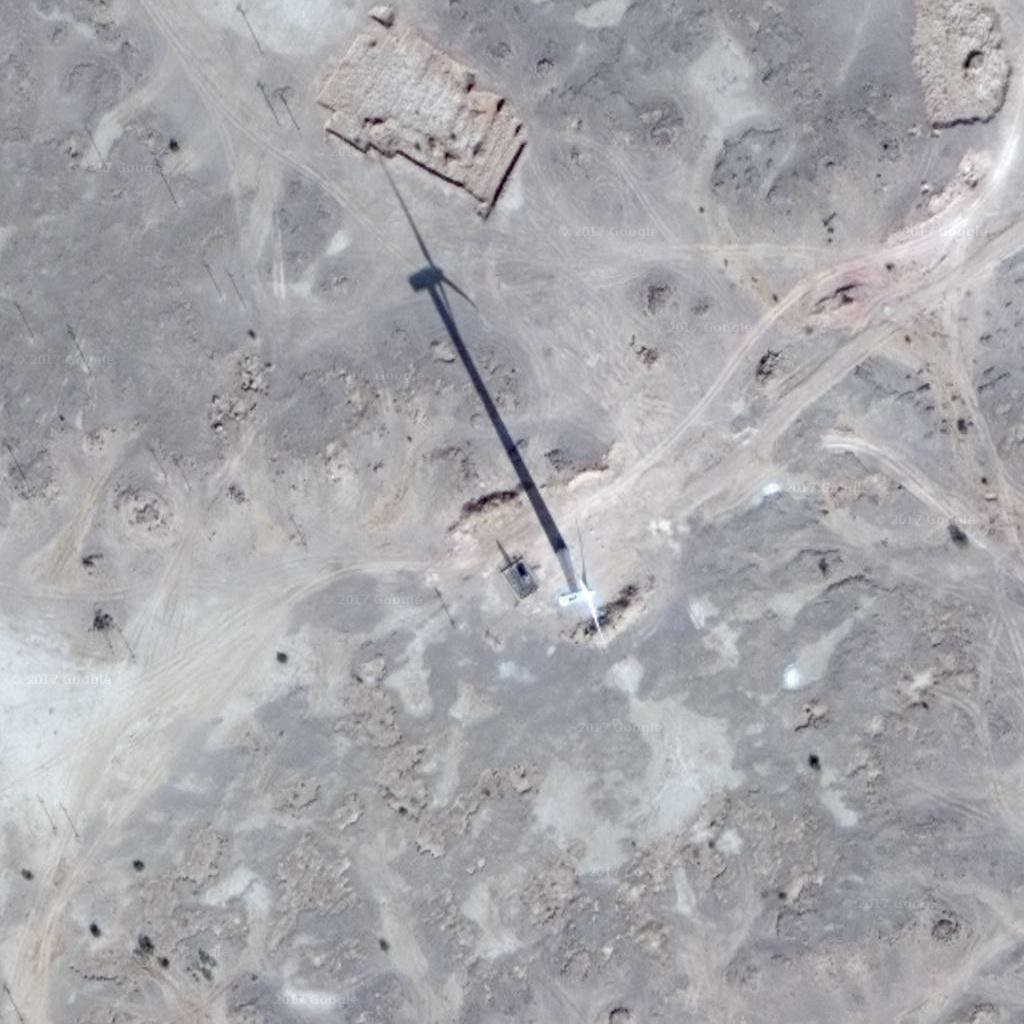Windmill: (379, 161, 571, 545)
